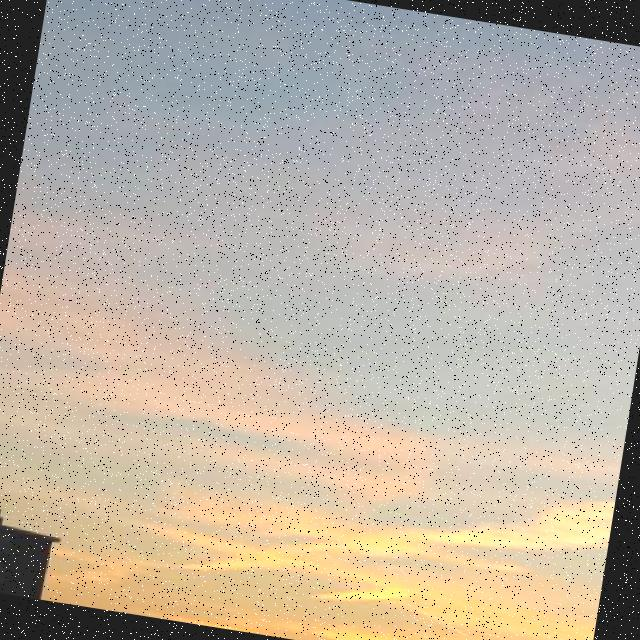Ct: (1, 25, 640, 588)
